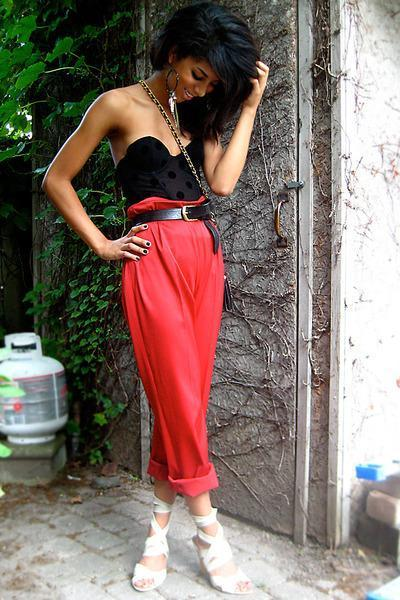pants: (122, 197, 228, 498)
shirt: (119, 136, 207, 203)
shoe: (135, 516, 245, 592)
